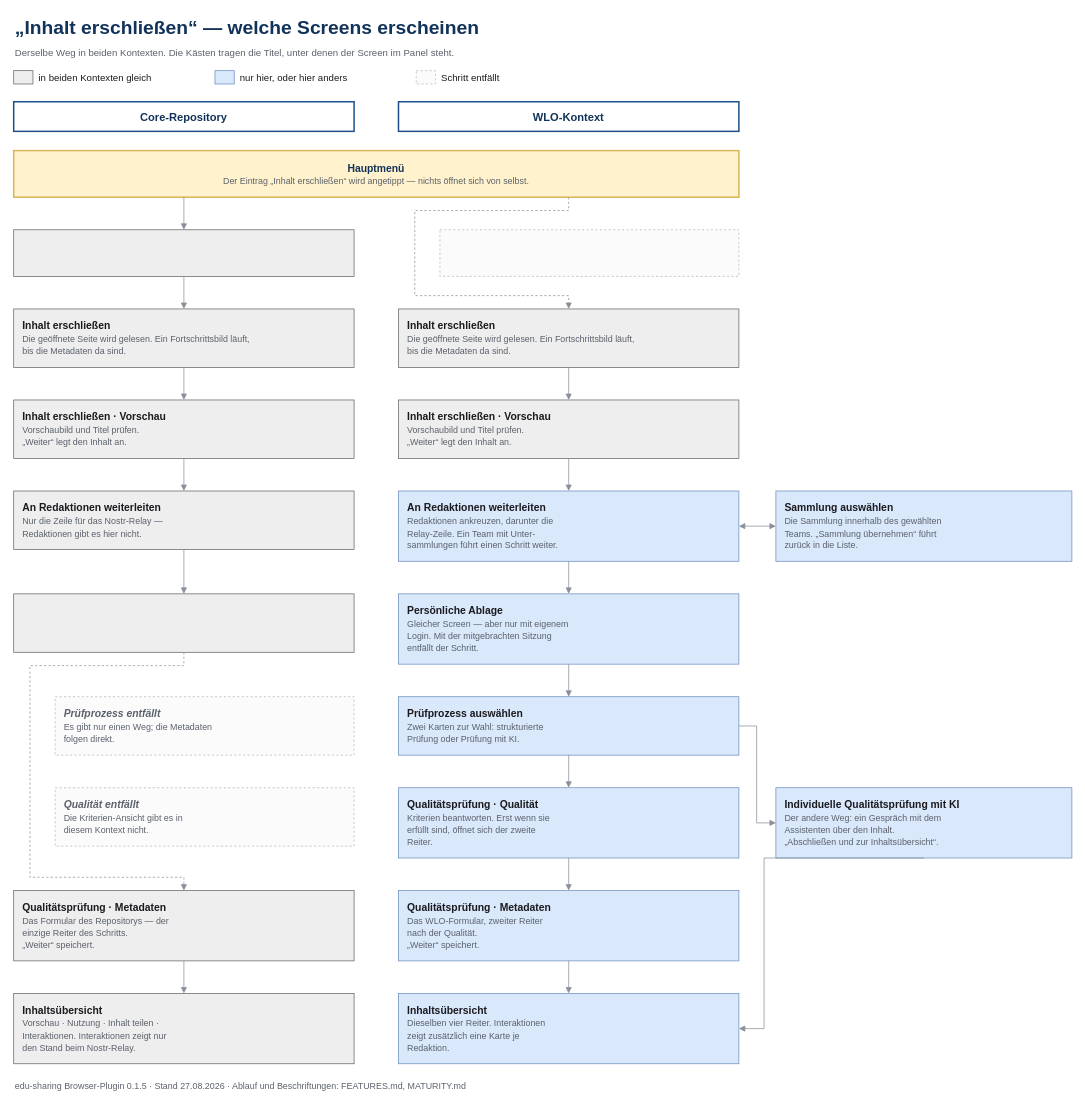
This 1085x1107 diagram has some shape labels left out. The box of each missing label's shape, as (x1, y1, x2, y2) in pixels:
Anmelden entfällt Kein Login-Screen: die Sitzung bringt die Umgebung mit.: (439, 229, 739, 276)
Anmelden Zugangsdaten für das Repository.: (13, 229, 354, 276)
Persönliche Ablage Ordner der eigenen Ablage, dazu wahlweise eine Sammlung.: (13, 593, 354, 652)
